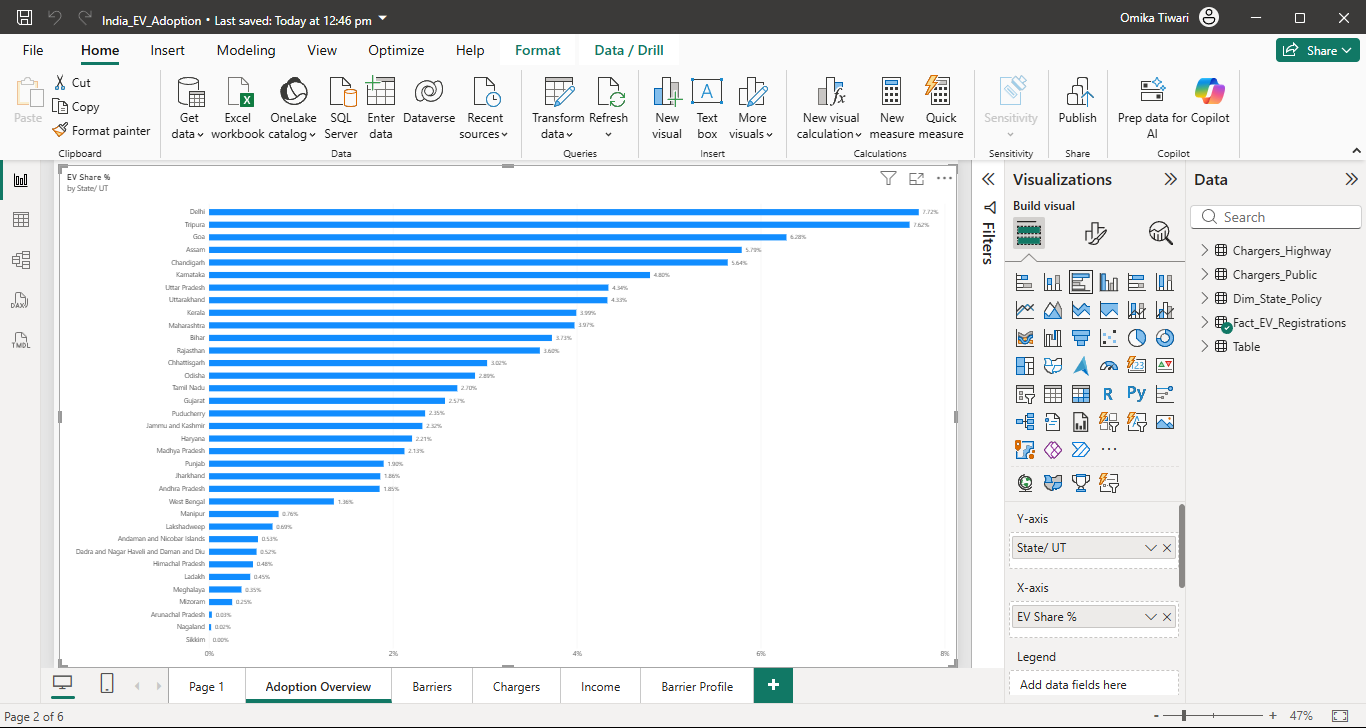

What the dashboard file says about the page in this screenshot:
{"tool":"powerbi","page":{"name":"Adoption Overview","canvas":[1920,1080],"ordinal":1},"visuals":[{"type":"clusteredBarChart","fields":{"Category":["Fact_EV_Registrations.State/ UT"],"Y":["Fact_EV_Registrations.EV Share %"]},"box":[10.1,10.1,1909.9,1070.9],"z":0}]}

Visuals, with their boxes on the page's 1920x1080 design canvas (x1, y1, x2, y2). These are canvas units, not pixel positions in the 1366x728 screenshot, which may show the page scaled, cropped or inside an application window:
clusteredBarChart - Fact_EV_Registrations.State/ UT x Fact_EV_Registrations.EV Share %: <region>10, 10, 1920, 1081</region>
